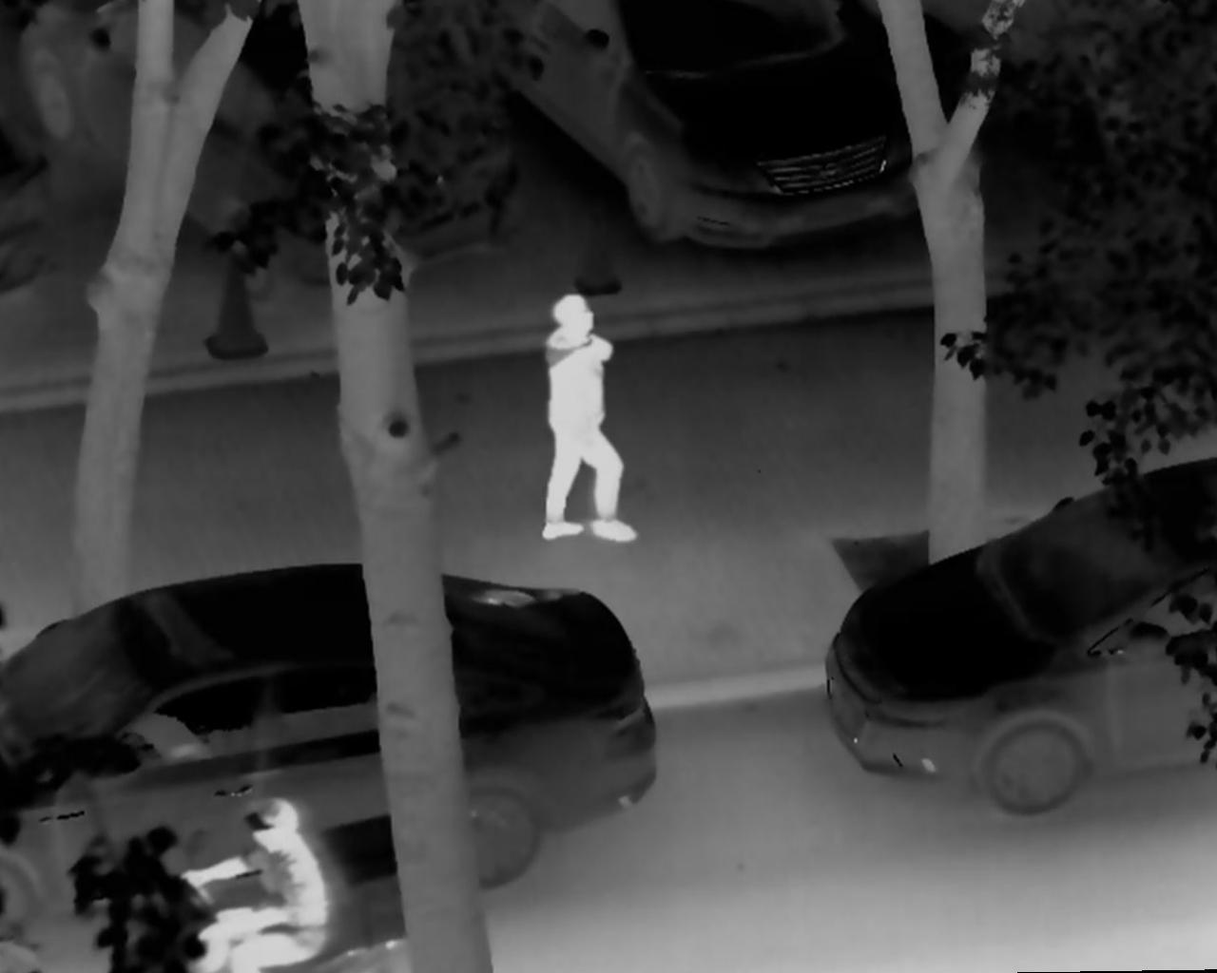person: (513, 291, 643, 549), (171, 800, 337, 973)
